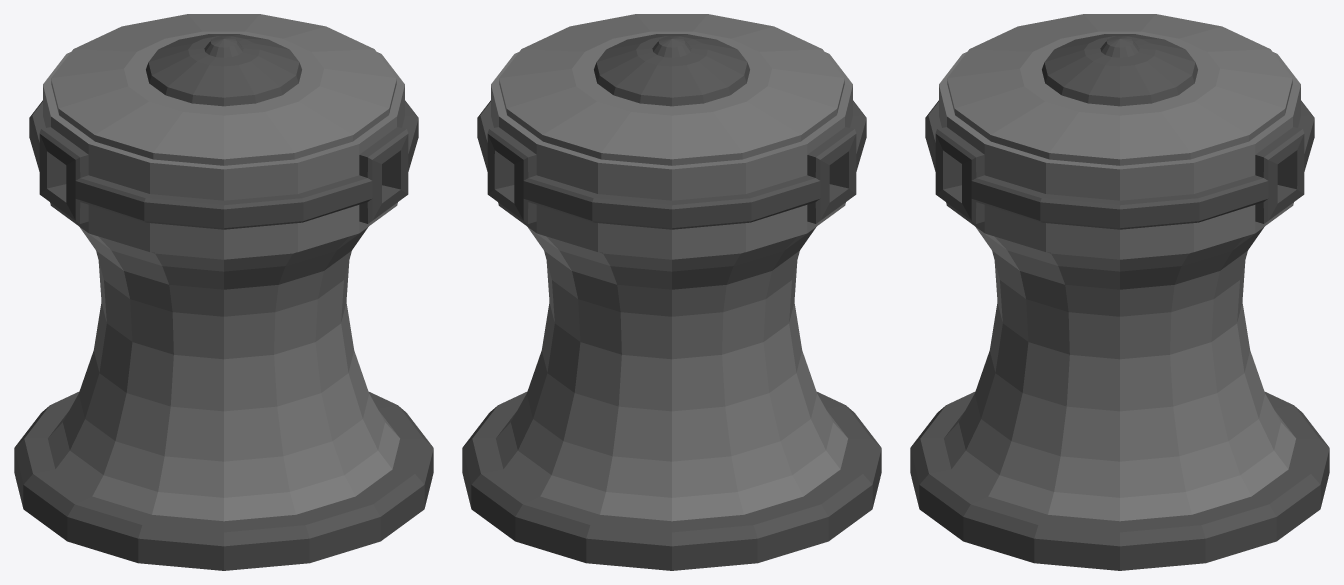
Rendered from CapstanStone.fbx.
The picture shows the model from 3 angles, left to right: view 1: azimuth 30°, elevation 25°; view 2: azimuth 150°, elevation 25°; view 3: azimuth 270°, elevation 25°; orthographic projection.
Visible parts, largest first — view 1: CapstanStone; view 2: CapstanStone; view 3: CapstanStone.
Boxes of the visible parts, x1,y1,x2,y2 form: CapstanStone: (14,14,433,570); CapstanStone: (462,14,881,570); CapstanStone: (910,14,1329,570).
Bounding box in the file's own units: 121 × 142 × 122.
